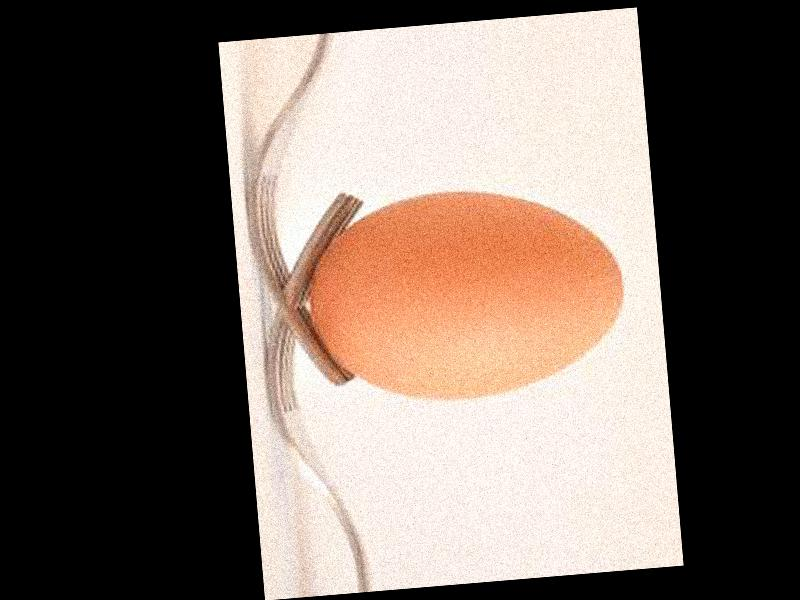Eggs: (302, 179, 630, 411)
